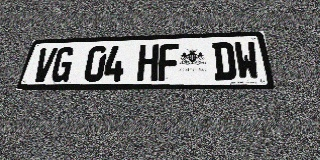0: (83, 46, 108, 82)
4: (103, 45, 127, 81)
D: (212, 42, 237, 80)
F: (158, 44, 179, 81)
G: (49, 47, 76, 82)
H: (137, 44, 159, 81)
V: (31, 47, 58, 82)
W: (233, 41, 261, 80)
